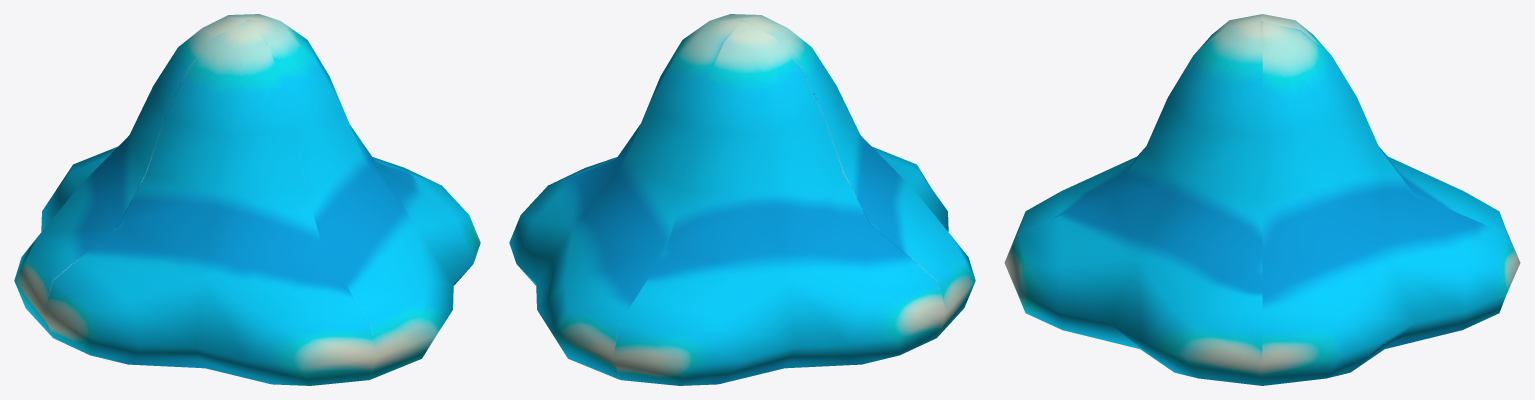
The model's file is Slim.fbx.
3 views of the same model, side by side, from view 1: azimuth 30°, elevation 25°; view 2: azimuth 150°, elevation 25°; view 3: azimuth 270°, elevation 25° (orthographic).
Parts seen in each view (by area): view 1: Cube; view 2: Cube; view 3: Cube.
Boxes of the visible parts, x1,y1,x2,y2 form: Cube: [14, 14, 480, 385]; Cube: [509, 14, 975, 385]; Cube: [1004, 14, 1520, 385].
Size of the model in its own units: 184 by 125 by 202.
